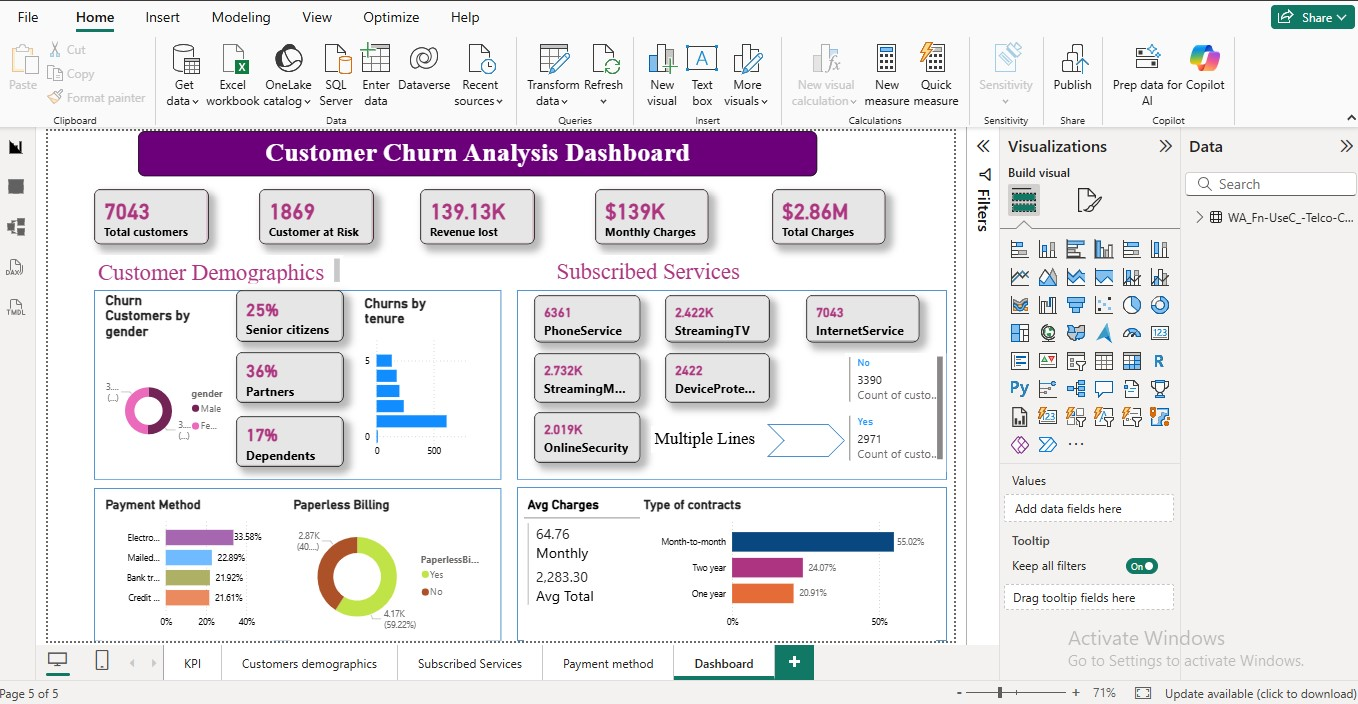

The dashboard page shown, as its layout file describes it:
{"tool":"powerbi","page":{"name":"Dashboard","canvas":[1280,720],"ordinal":4},"visuals":[{"type":"textbox","box":[127.7,0,959.2,63.8],"z":0},{"type":"cardVisual","fields":{"Data":["Count(WA_Fn-UseC_-Telco-Customer-Churn.customerID)"]},"box":[298.3,81.7,161.7,78.3],"z":1000},{"type":"cardVisual","fields":{"Data":["Sum(WA_Fn-UseC_-Telco-Customer-Churn.TotalCharges)"]},"box":[1021.7,81.7,160,78.3],"z":2000},{"type":"cardVisual","fields":{"Data":["Sum(WA_Fn-UseC_-Telco-Customer-Churn.MonthlyCharges)"]},"box":[771.7,81.7,160,78.3],"z":3000},{"type":"cardVisual","fields":{"Data":["WA_Fn-UseC_-Telco-Customer-Churn.Total customers"]},"box":[65,81.7,161.7,78.3],"z":4000},{"type":"cardVisual","fields":{"Data":["WA_Fn-UseC_-Telco-Customer-Churn.Revenue lost"]},"box":[525,81.7,161.7,78.3],"z":5000},{"type":"textbox","box":[65,175,351.7,45],"z":6000},{"type":"textbox","box":[713.3,175,275,50],"z":7000},{"type":"shape","box":[65,225,575,268.3],"z":8000},{"type":"shape","box":[65,503.3,575,216.7],"z":9000},{"type":"shape","box":[661.7,225,606.7,268.3],"z":10000},{"type":"shape","box":[662,503,607,217],"z":11000},{"type":"donutChart","title":"Churn Customers by gender","fields":{"Category":["WA_Fn-UseC_-Telco-Customer-Churn.gender"],"Y":["CountNonNull(WA_Fn-UseC_-Telco-Customer-Churn.customerID)"]},"box":[76.7,226.7,183.3,263.3],"z":12000},{"type":"cardVisual","fields":{"Data":["WA_Fn-UseC_-Telco-Customer-Churn.Sr %"]},"box":[265,225,151.7,73.3],"z":13000},{"type":"cardVisual","fields":{"Data":["WA_Fn-UseC_-Telco-Customer-Churn.% of partners"]},"box":[265,311.7,151.7,71.7],"z":14000},{"type":"cardVisual","fields":{"Data":["WA_Fn-UseC_-Telco-Customer-Churn.% of dependents"]},"box":[265,401.7,151.7,71.7],"z":15000},{"type":"clusteredBarChart","title":"Churns by tenure","fields":{"Y":["CountNonNull(WA_Fn-UseC_-Telco-Customer-Churn.Churn)"],"Category":["WA_Fn-UseC_-Telco-Customer-Churn.tenure"]},"box":[442,232,166,248],"z":16000},{"type":"cardVisual","fields":{"Data":["CountNonNull(WA_Fn-UseC_-Telco-Customer-Churn.PhoneService)"]},"box":[686.7,231.7,150,66.7],"z":17000},{"type":"cardVisual","fields":{"Data":["CountNonNull(WA_Fn-UseC_-Telco-Customer-Churn.StreamingTV)"]},"box":[871.7,231.7,148.3,66.7],"z":18000},{"type":"cardVisual","fields":{"Data":["CountNonNull(WA_Fn-UseC_-Telco-Customer-Churn.InternetService)"]},"box":[1070,231.7,160,66.7],"z":19000},{"type":"cardVisual","fields":{"Data":["CountNonNull(WA_Fn-UseC_-Telco-Customer-Churn.DeviceProtection)"]},"box":[871.7,313.3,148.3,70],"z":20000},{"type":"cardVisual","fields":{"Data":["CountNonNull(WA_Fn-UseC_-Telco-Customer-Churn.StreamingMovies)"]},"box":[686.7,313.3,150,70],"z":21000},{"type":"cardVisual","fields":{"Data":["CountNonNull(WA_Fn-UseC_-Telco-Customer-Churn.OnlineSecurity)"]},"box":[686.7,396.7,150,71.7],"z":22000},{"type":"multiRowCard","fields":{"Values":["WA_Fn-UseC_-Telco-Customer-Churn.customerID","WA_Fn-UseC_-Telco-Customer-Churn.MultipleLines"]},"box":[1125,313.3,143.3,166.7],"z":23000},{"type":"shape","box":[1015,413.3,110,46.7],"z":24000},{"type":"textbox","box":[851.7,416.7,163.3,38.3],"z":25000},{"type":"barChart","title":"Payment Method","fields":{"Category":["WA_Fn-UseC_-Telco-Customer-Churn.PaymentMethod"],"Y":["WA_Fn-UseC_-Telco-Customer-Churn.% of Payment"]},"box":[76.7,516.7,241.7,203.3],"z":26000},{"type":"donutChart","title":"Paperless Billing ","fields":{"Category":["WA_Fn-UseC_-Telco-Customer-Churn.PaperlessBilling"],"Y":["CountNonNull(WA_Fn-UseC_-Telco-Customer-Churn.PaperlessBilling)"]},"box":[341.7,516.7,276.7,203.3],"z":27000},{"type":"multiRowCard","title":"Avg Charges","fields":{"Values":["WA_Fn-UseC_-Telco-Customer-Churn.Monthly","WA_Fn-UseC_-Telco-Customer-Churn.Avg Total"]},"box":[672,516,164,204],"z":28000},{"type":"barChart","title":"Type of contracts","fields":{"Category":["WA_Fn-UseC_-Telco-Customer-Churn.Contract"],"Y":["WA_Fn-UseC_-Telco-Customer-Churn.% of contract"]},"box":[836,516,418,204],"z":29000}]}

Visuals, with their boxes on the page's 1280x720 design canvas (x1, y1, x2, y2). These are canvas units, not pixel positions in the 1358x704 screenshot, which may show the page scaled, cropped or inside an application window:
textbox: crop(128, 0, 1087, 64)
cardVisual - Count(WA_Fn-UseC_-Telco-Customer-Churn.customerID): crop(298, 82, 460, 160)
cardVisual - Sum(WA_Fn-UseC_-Telco-Customer-Churn.TotalCharges): crop(1022, 82, 1182, 160)
cardVisual - Sum(WA_Fn-UseC_-Telco-Customer-Churn.MonthlyCharges): crop(772, 82, 932, 160)
cardVisual - WA_Fn-UseC_-Telco-Customer-Churn.Total customers: crop(65, 82, 227, 160)
cardVisual - WA_Fn-UseC_-Telco-Customer-Churn.Revenue lost: crop(525, 82, 687, 160)
textbox: crop(65, 175, 417, 220)
textbox: crop(713, 175, 988, 225)
shape: crop(65, 225, 640, 493)
shape: crop(65, 503, 640, 720)
shape: crop(662, 225, 1268, 493)
shape: crop(662, 503, 1269, 720)
"Churn Customers by gender" donutChart: crop(77, 227, 260, 490)
cardVisual - WA_Fn-UseC_-Telco-Customer-Churn.Sr %: crop(265, 225, 417, 298)
cardVisual - WA_Fn-UseC_-Telco-Customer-Churn.% of partners: crop(265, 312, 417, 383)
cardVisual - WA_Fn-UseC_-Telco-Customer-Churn.% of dependents: crop(265, 402, 417, 473)
"Churns by tenure" clusteredBarChart: crop(442, 232, 608, 480)
cardVisual - CountNonNull(WA_Fn-UseC_-Telco-Customer-Churn.PhoneService): crop(687, 232, 837, 298)
cardVisual - CountNonNull(WA_Fn-UseC_-Telco-Customer-Churn.StreamingTV): crop(872, 232, 1020, 298)
cardVisual - CountNonNull(WA_Fn-UseC_-Telco-Customer-Churn.InternetService): crop(1070, 232, 1230, 298)
cardVisual - CountNonNull(WA_Fn-UseC_-Telco-Customer-Churn.DeviceProtection): crop(872, 313, 1020, 383)
cardVisual - CountNonNull(WA_Fn-UseC_-Telco-Customer-Churn.StreamingMovies): crop(687, 313, 837, 383)
cardVisual - CountNonNull(WA_Fn-UseC_-Telco-Customer-Churn.OnlineSecurity): crop(687, 397, 837, 468)
multiRowCard - WA_Fn-UseC_-Telco-Customer-Churn.customerID x WA_Fn-UseC_-Telco-Customer-Churn.MultipleLines: crop(1125, 313, 1268, 480)
shape: crop(1015, 413, 1125, 460)
textbox: crop(852, 417, 1015, 455)
"Payment Method" barChart: crop(77, 517, 318, 720)
"Paperless Billing " donutChart: crop(342, 517, 618, 720)
"Avg Charges" multiRowCard: crop(672, 516, 836, 720)
"Type of contracts" barChart: crop(836, 516, 1254, 720)
